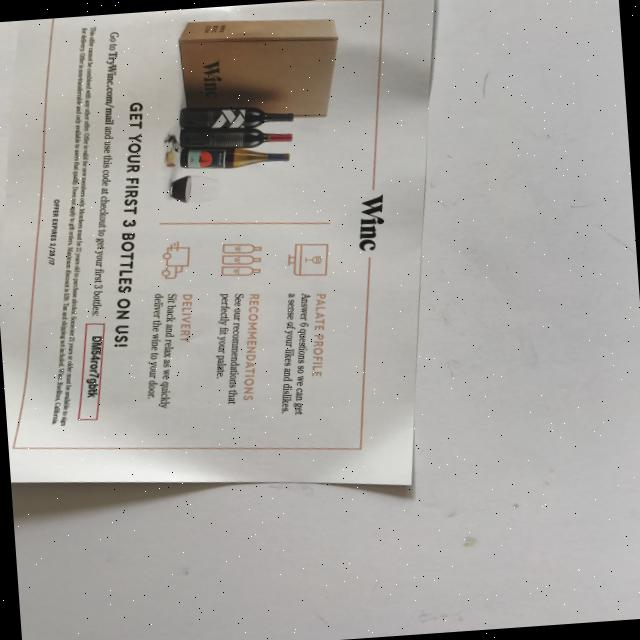paper: (0, 0, 470, 513)
